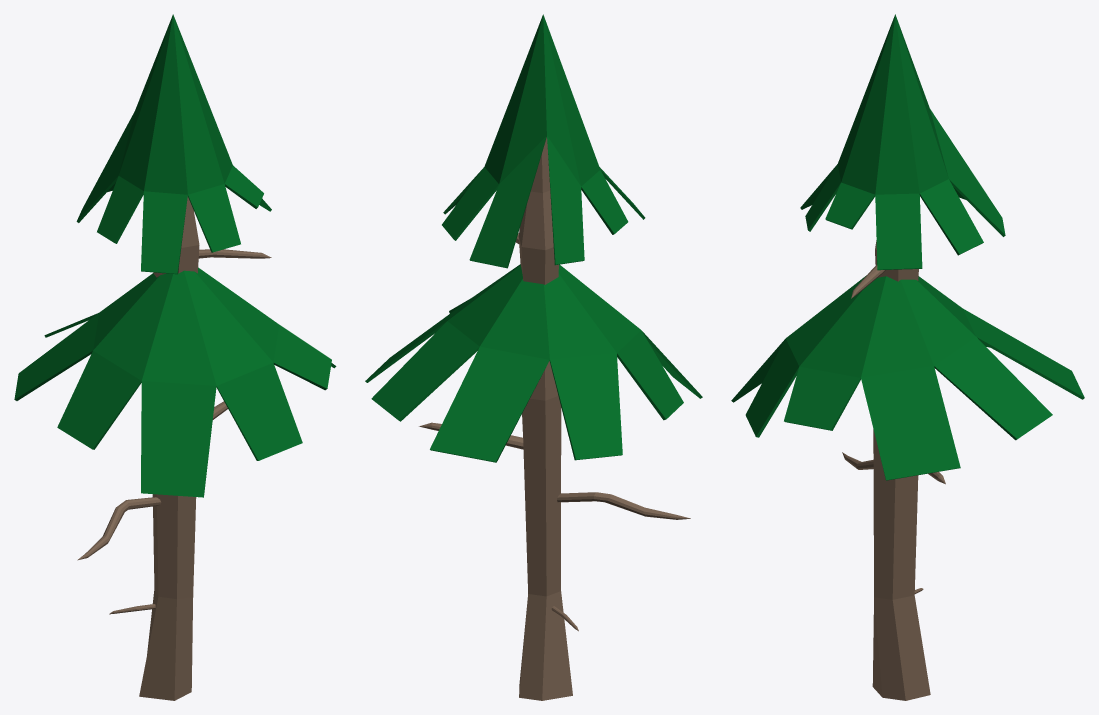
File: Spruce_5.fbx
3 renders of one model, left to right at view 1: azimuth 30°, elevation 25°; view 2: azimuth 150°, elevation 25°; view 3: azimuth 270°, elevation 25°, orthographic.
Visible parts, largest first — view 1: Spruce_5; view 2: Spruce_5; view 3: Spruce_5.
Boxes of the visible parts, bbox=[...] form: Spruce_5: bbox=[14, 14, 336, 700]; Spruce_5: bbox=[365, 14, 702, 700]; Spruce_5: bbox=[731, 14, 1084, 700].
Size of the model in its own units: 171 by 186 by 392.
